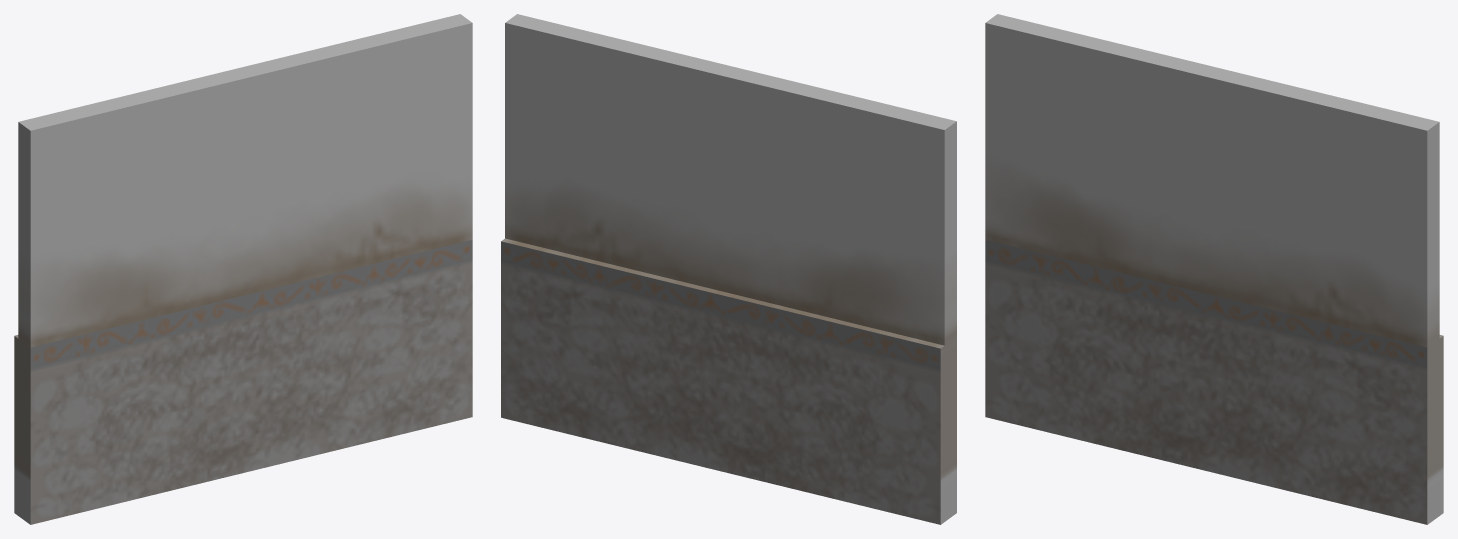
File: WhiteGray_ModularLowWall.fbx
3 renders of one model, left to right at view 1: azimuth 30°, elevation 25°; view 2: azimuth 150°, elevation 25°; view 3: azimuth 330°, elevation 25°, orthographic.
Parts seen in each view (by area): view 1: Cube.017; view 2: Cube.017; view 3: Cube.017.
Part boxes in pixels (x1,y1,x2,y2): Cube.017: [14, 14, 472, 524]; Cube.017: [501, 14, 956, 524]; Cube.017: [985, 14, 1443, 524].
Size of the model in its own units: 4.14 by 3.53 by 0.2635.
